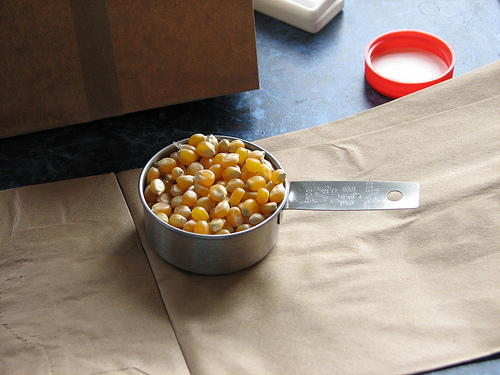corn: (144, 131, 290, 237)
